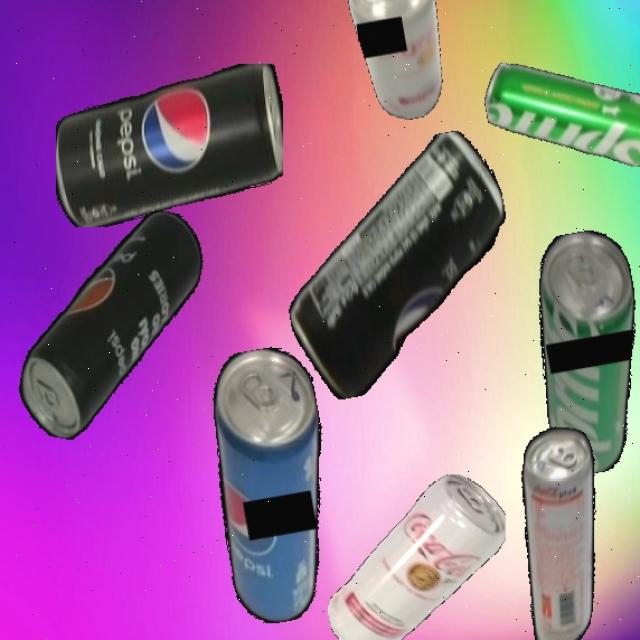debris: (264, 125, 532, 405), (12, 193, 210, 457), (194, 341, 354, 629), (55, 63, 283, 227), (518, 225, 640, 479), (327, 473, 506, 640), (491, 420, 622, 640), (479, 37, 640, 190), (342, 0, 454, 125)
